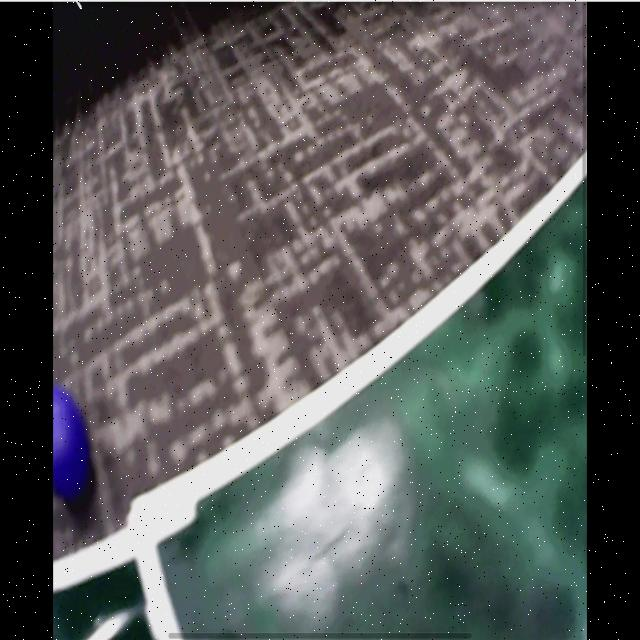ball: (55, 391, 91, 502)
